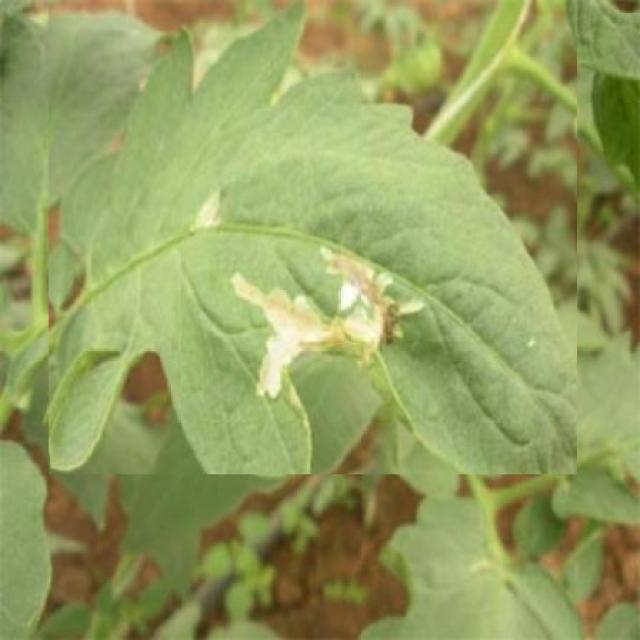Leaf Miner: (49, 0, 577, 474)
